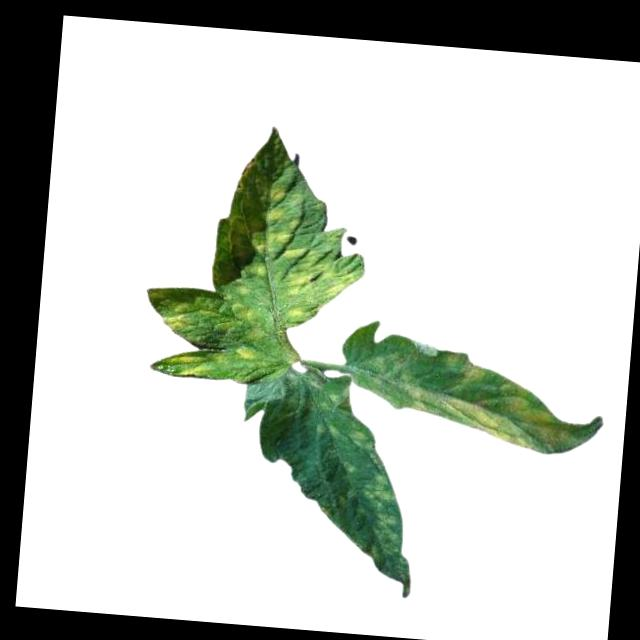Leaf_Mold: (142, 115, 374, 351), (398, 348, 579, 457), (351, 468, 407, 564), (165, 348, 225, 381)
